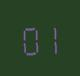one: (40, 19, 60, 55)
zero: (19, 20, 39, 56)
